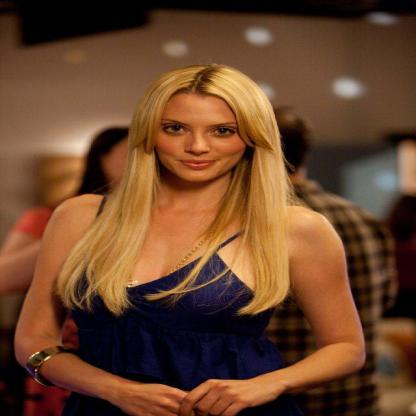long-hair: (100, 188, 300, 218)
